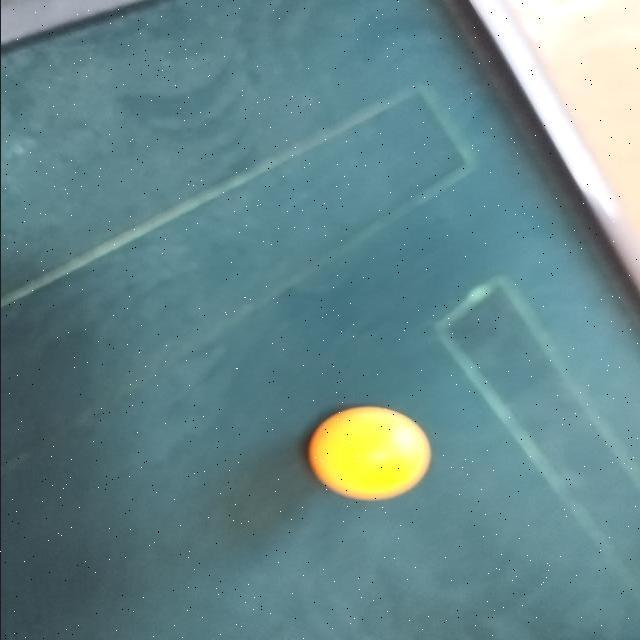ping-pong-ball: (308, 407, 431, 500)
